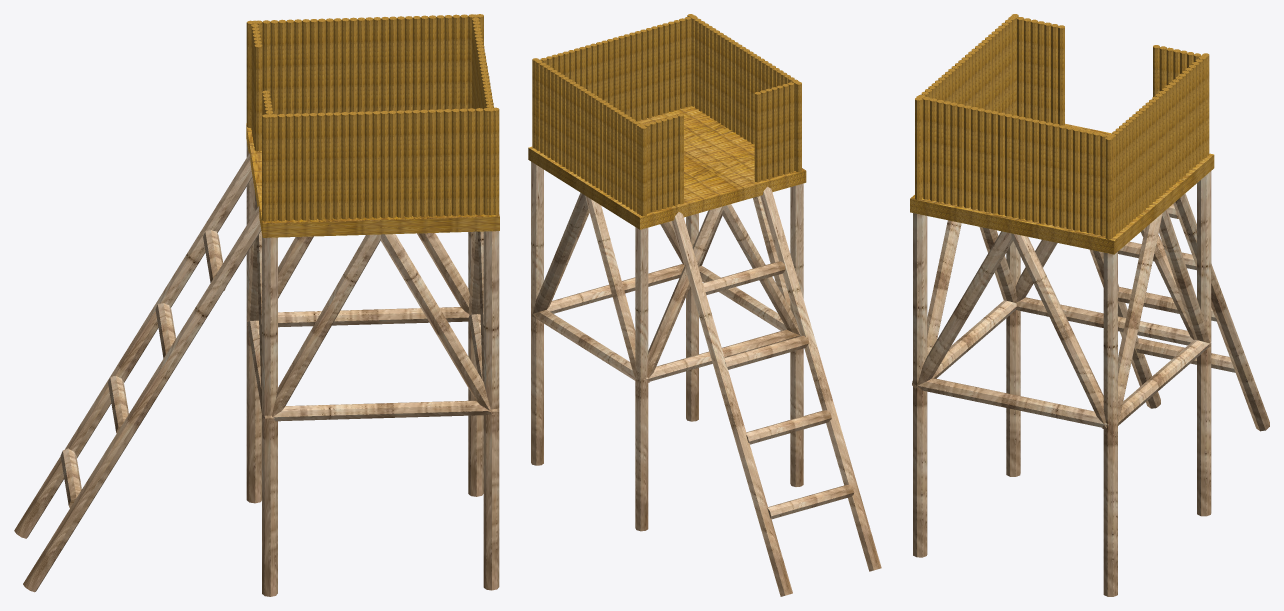
Rendered from mirador.glb.
3 renders of one model, left to right at view 1: azimuth 30°, elevation 25°; view 2: azimuth 150°, elevation 25°; view 3: azimuth 270°, elevation 25°, orthographic. The views are drawn at different scales.
Parts seen in each view (by area): view 1: Cylinder.008; view 2: Cylinder.008; view 3: Cylinder.008.
Boxes of the visible parts, box(x1,y1,x2,y2) form: Cylinder.008: box(14, 14, 499, 596); Cylinder.008: box(528, 14, 881, 596); Cylinder.008: box(910, 14, 1269, 596).
Size of the model in its own units: 4.26 by 4.53 by 3.16.
2 materials, 2 textured.
